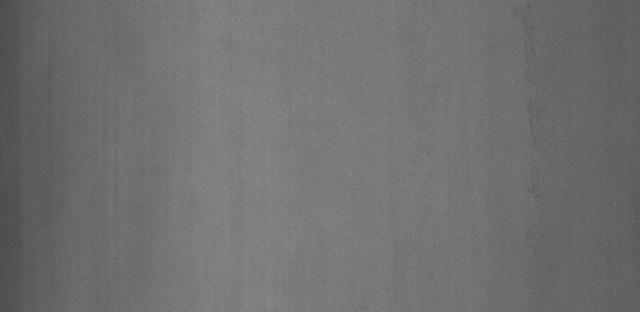silk_spot: (509, 0, 556, 203)
